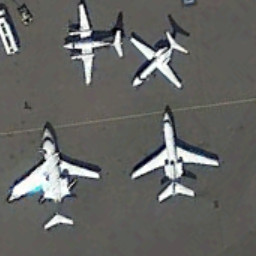Airplane: (4, 123, 105, 234), (127, 108, 224, 211), (52, 1, 126, 88), (126, 17, 196, 97)
